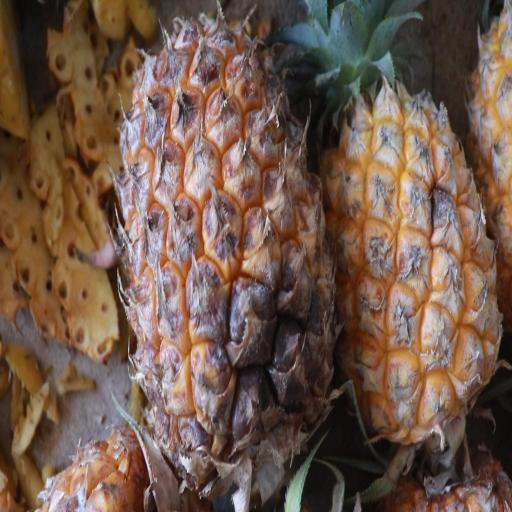Pineapple - v8 v1: (114, 0, 340, 487), (314, 13, 501, 453)
